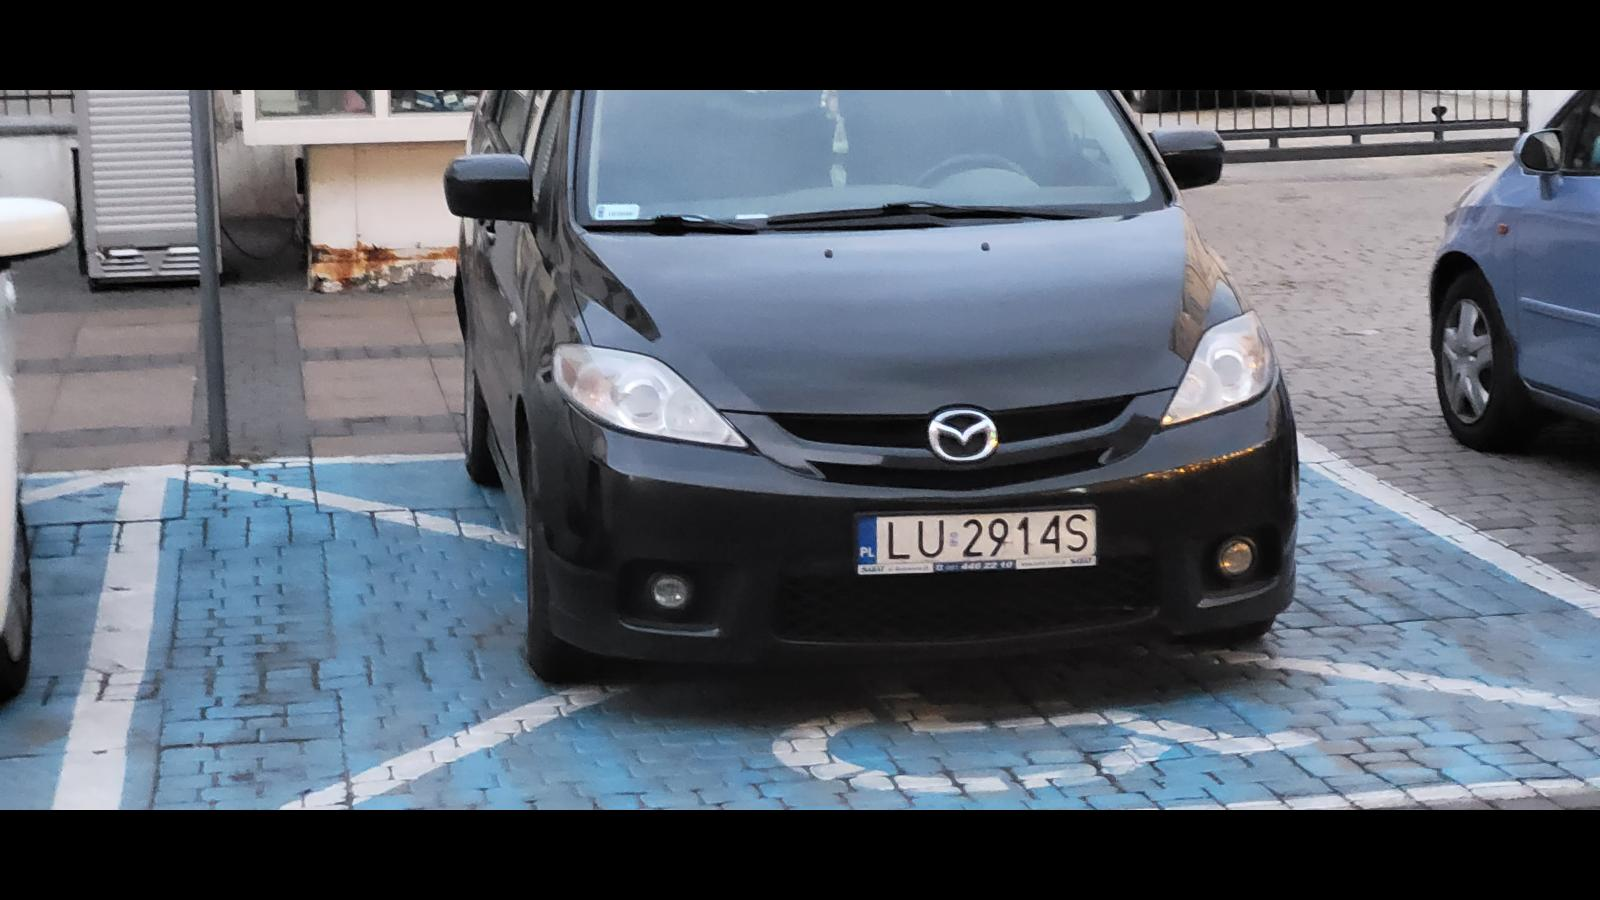plates: (854, 504, 1100, 576)
